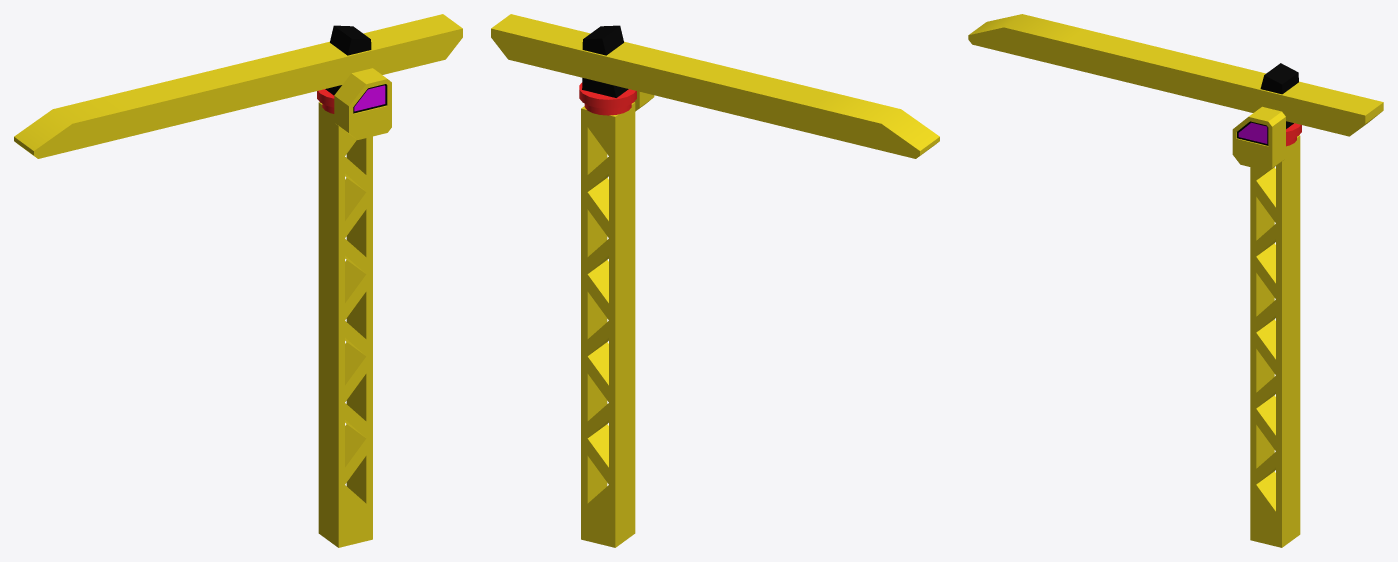
The model's file is Crane.FBX.
The picture shows the model from 3 angles, left to right: view 1: azimuth 30°, elevation 25°; view 2: azimuth 150°, elevation 25°; view 3: azimuth 330°, elevation 25°; orthographic projection. The views are drawn at different scales.
Visible parts, largest first — view 1: Base, Arm, Top; view 2: Base, Arm, Top; view 3: Base, Arm, Top.
Boxes of the visible parts, x1=… form: Base: x1=317, y1=89, x2=372, y2=547; Arm: x1=14, y1=14, x2=462, y2=158; Top: x1=325, y1=25, x2=391, y2=139; Base: x1=579, y1=82, x2=636, y2=547; Arm: x1=491, y1=14, x2=939, y2=158; Top: x1=582, y1=25, x2=654, y2=111; Base: x1=1250, y1=123, x2=1301, y2=547; Arm: x1=968, y1=14, x2=1383, y2=136; Top: x1=1232, y1=63, x2=1298, y2=171.
Size of the model in its own units: 2500 by 395 by 2813.
